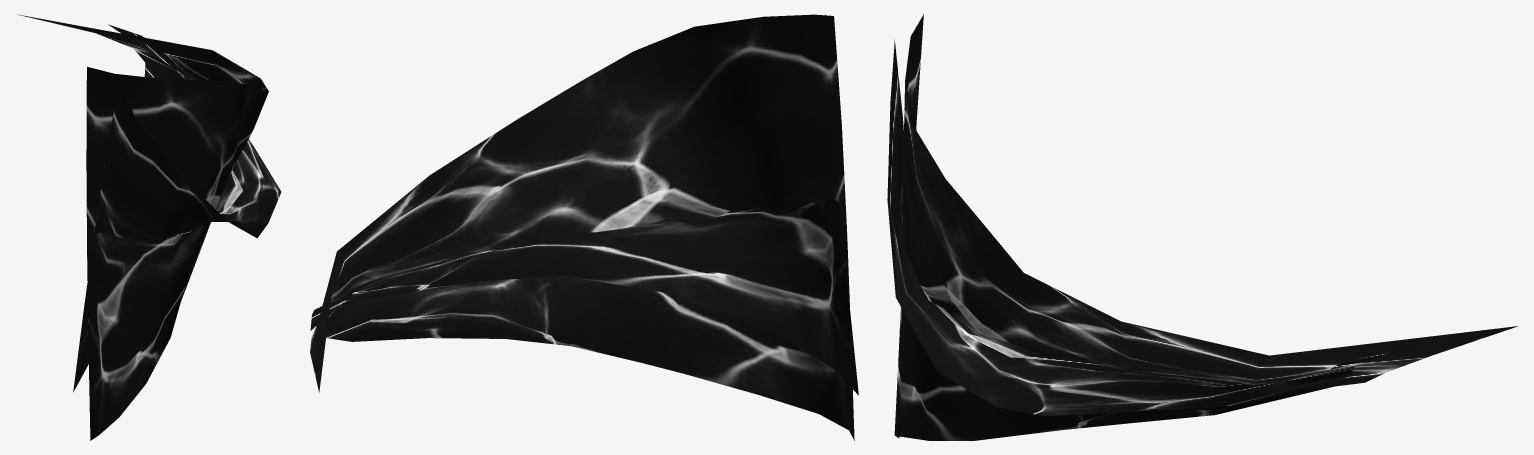
Rendered from FX_lfl_trail02.FBX.
3 views of the same model, side by side, from view 1: azimuth 30°, elevation 25°; view 2: azimuth 150°, elevation 25°; view 3: azimuth 270°, elevation 25° (orthographic). The views are drawn at different scales.
Parts seen in each view (by area): view 1: Plane001; view 2: Plane001; view 3: Plane001.
Boxes of the visible parts, x1=… form: Plane001: x1=18, y1=14, x2=281, y2=440; Plane001: x1=310, y1=14, x2=858, y2=440; Plane001: x1=887, y1=14, x2=1518, y2=440.
Size of the model in its own units: 102 by 122 by 163.
